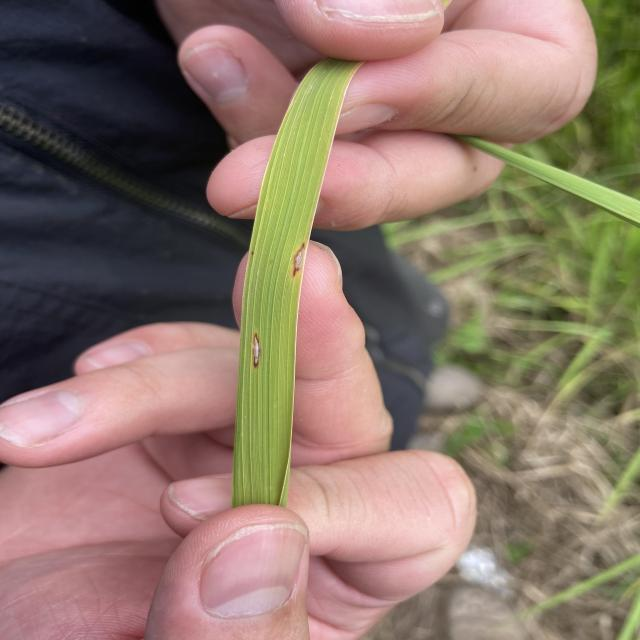Dao on: (294, 244, 306, 273), (253, 334, 261, 369)
